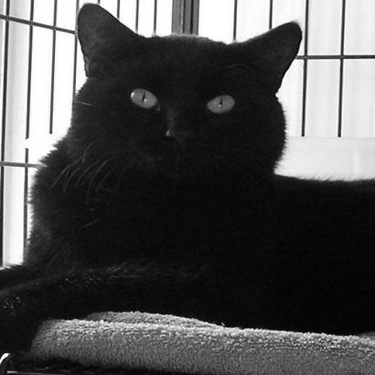cat: (6, 1, 372, 370)
